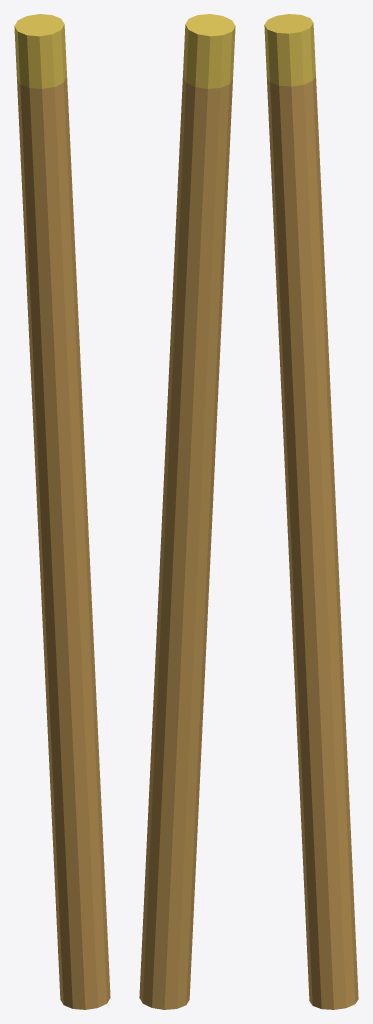
Rendered from Torch.fbx.
3 renders of one model, left to right at view 1: azimuth 30°, elevation 25°; view 2: azimuth 150°, elevation 25°; view 3: azimuth 330°, elevation 25°, orthographic. The views are drawn at different scales.
Parts seen in each view (by area): view 1: Cylinder.008; view 2: Cylinder.008; view 3: Cylinder.008.
Boxes of the visible parts, bbox=[...] form: Cylinder.008: bbox=[14, 14, 110, 1009]; Cylinder.008: bbox=[139, 14, 235, 1009]; Cylinder.008: bbox=[264, 14, 358, 1009].
Bounding box in the file's own units: 9.03 × 4.4 × 95.28.
